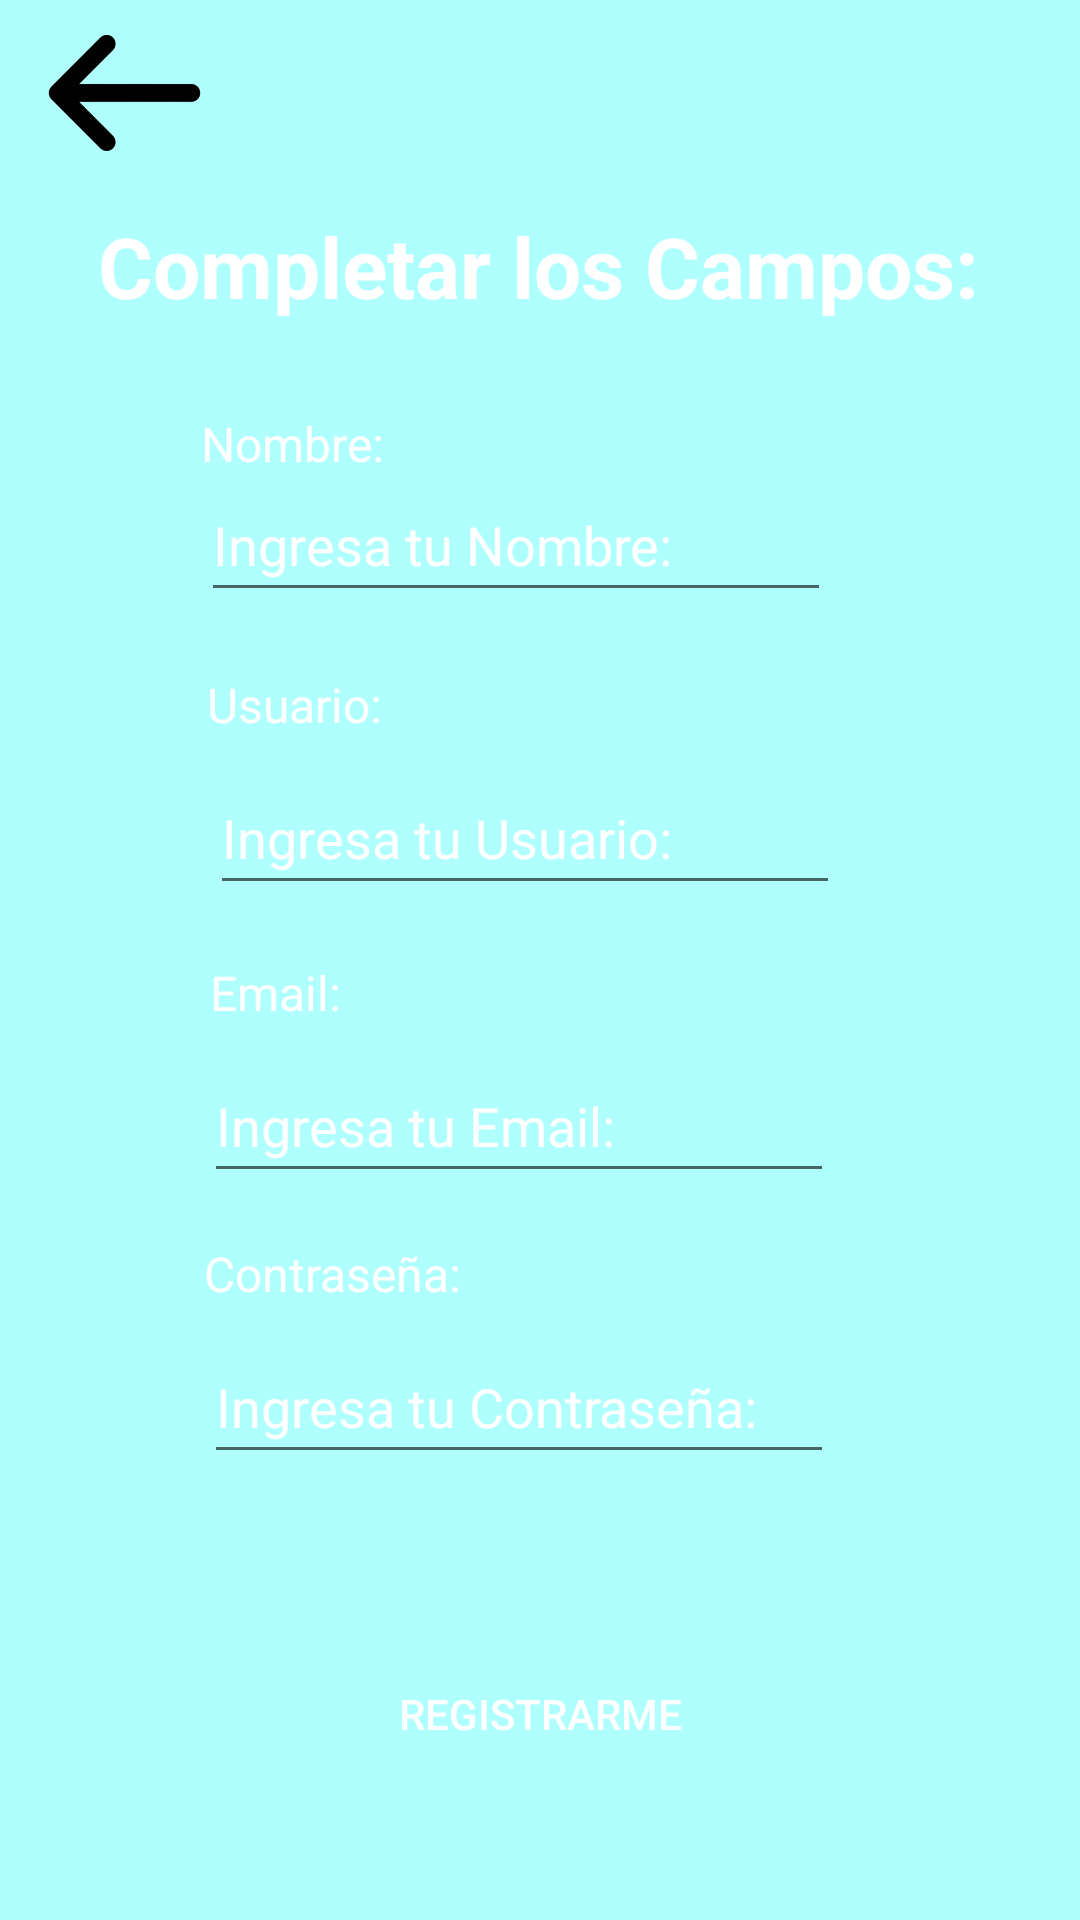

Point at icon controls on the screen. Image size 1080w x 1920h, points as (x=x, y=y).
Cancelar: (x=124, y=93)
